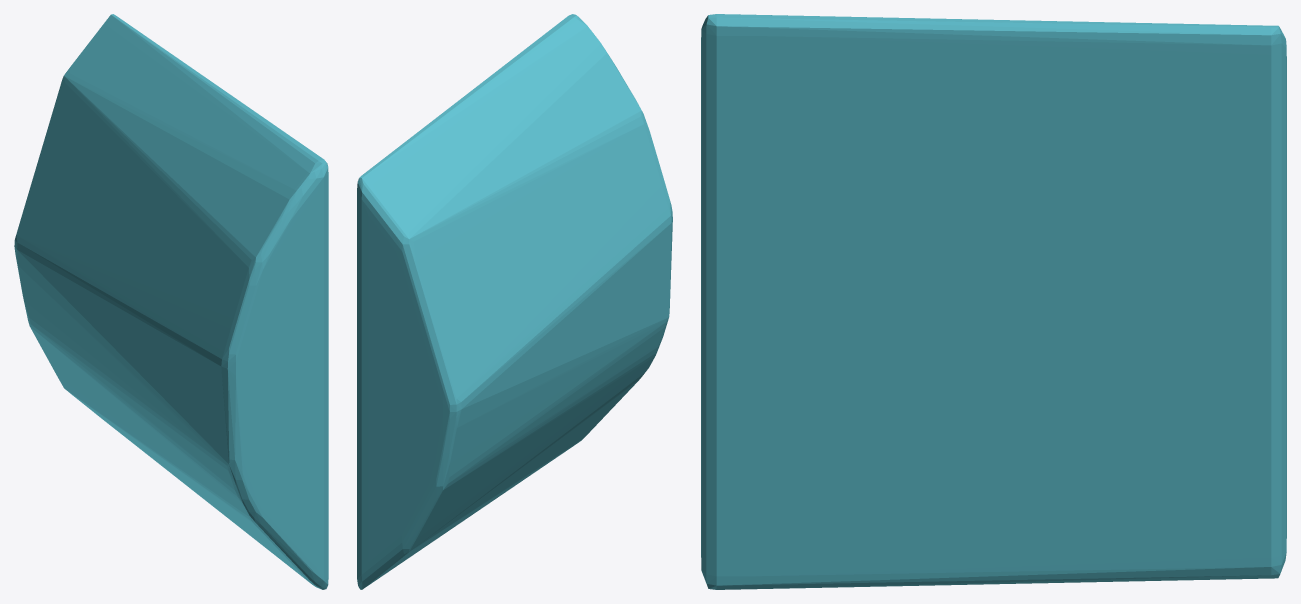
The model's file is right_th_proximal_part_2.obj.
3 views of the same model, side by side, from view 1: azimuth 30°, elevation 25°; view 2: azimuth 150°, elevation 25°; view 3: azimuth 270°, elevation 25° (orthographic). The views are drawn at different scales.
Size of the model in its own units: 4.37 by 16.73 by 15.52.
